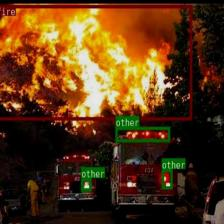fire: (0, 4, 191, 119)
